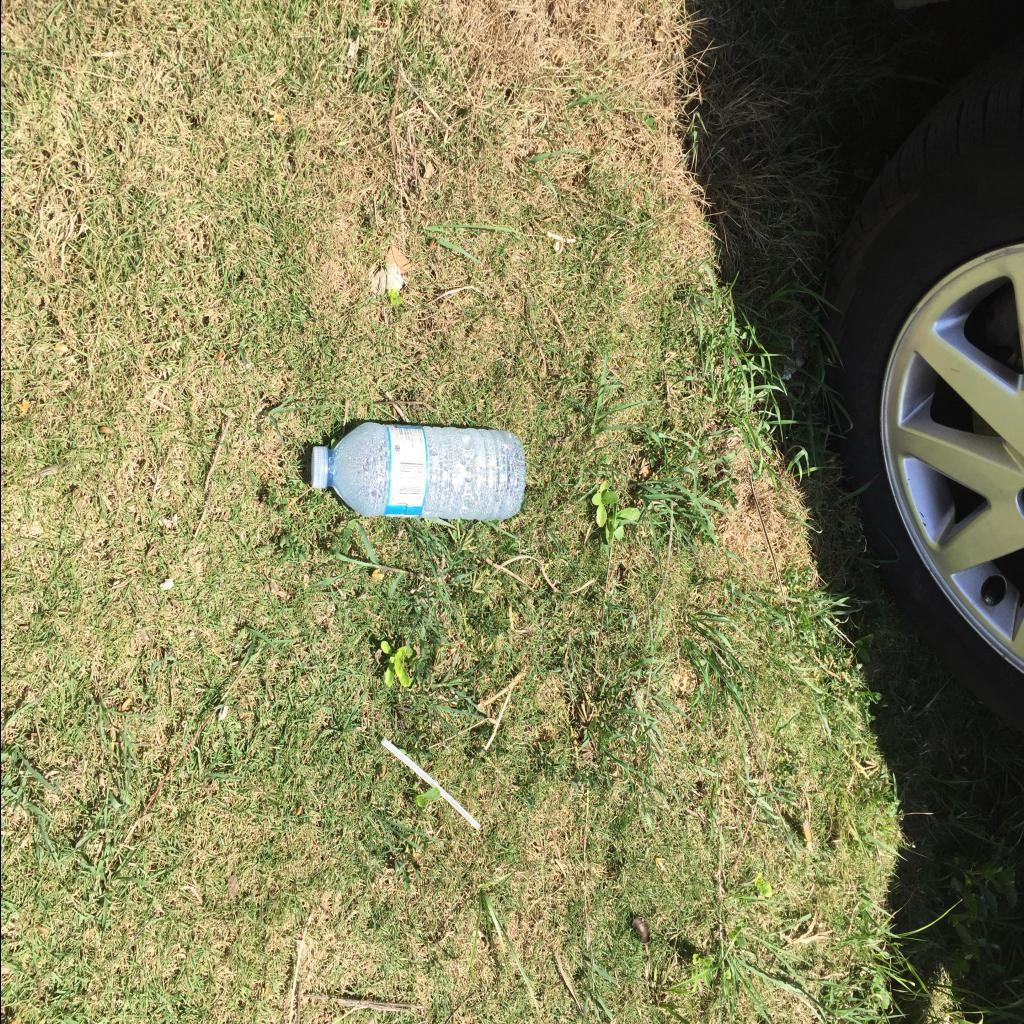Cigarette: (802, 819, 811, 843)
Clear plastic bottle: (311, 422, 525, 520)
Plastic bottle cap: (310, 447, 324, 489)
Plastic straw: (380, 738, 480, 832)
